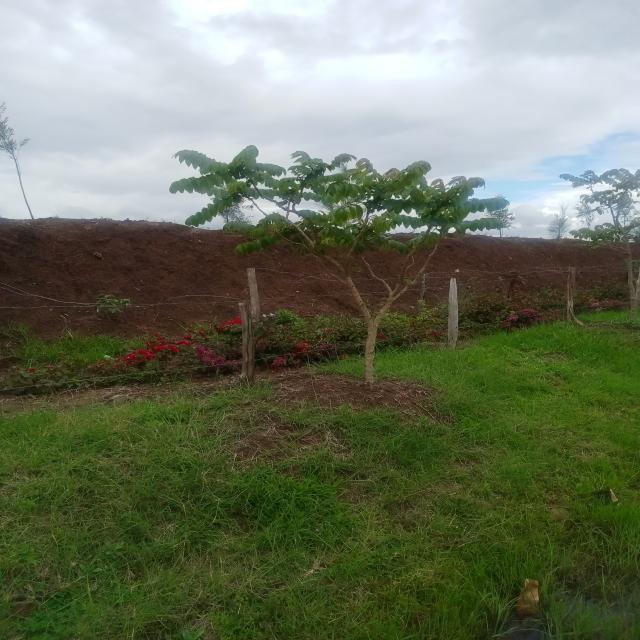Polyscias Kikuyensis: (170, 139, 512, 381), (564, 160, 640, 258)
